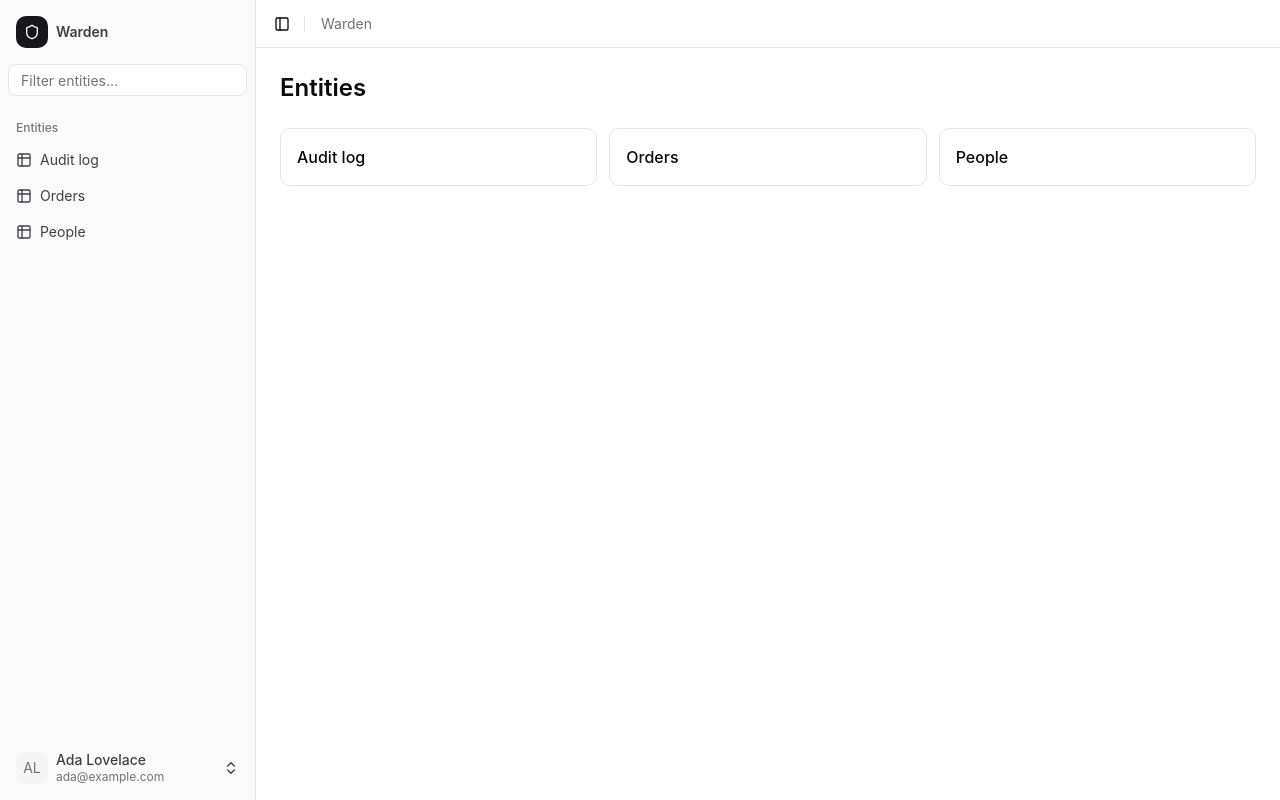
it: web shell › filters the entity list
Check: the 2nd link "People" is shown, box [16, 223, 86, 240]
Type "ord" into the field labelled "Filter entities" at (128, 80), box [8, 64, 247, 96]
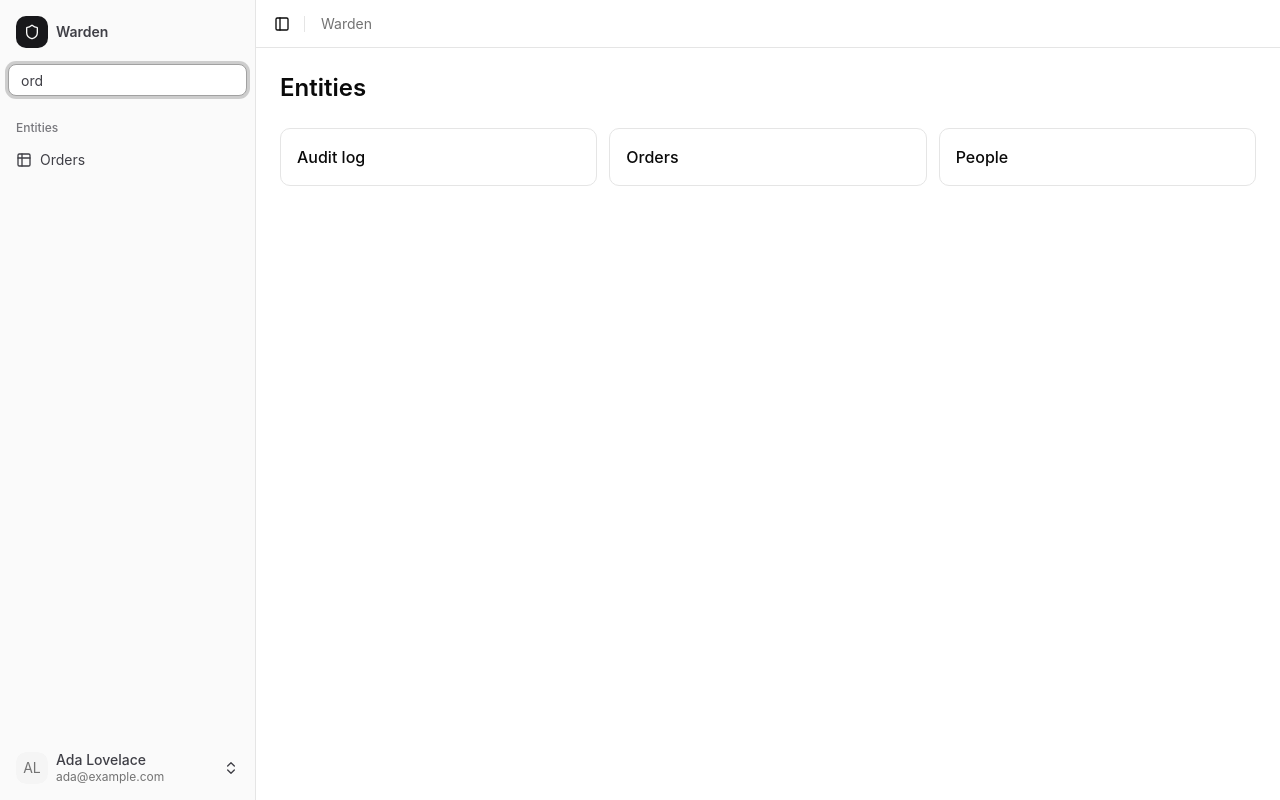
Check: the links read "Orders", in this order, box [16, 151, 85, 168]
